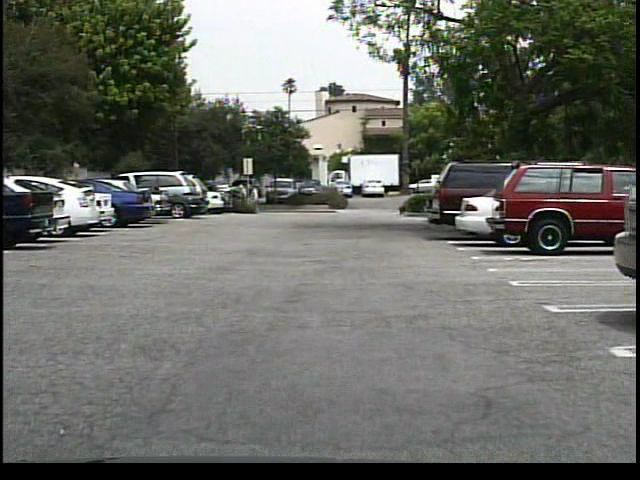person: (235, 182, 250, 212), (245, 185, 257, 216), (250, 183, 262, 214)
